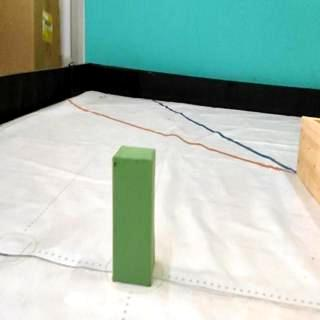greenbox: (112, 144, 156, 288)
